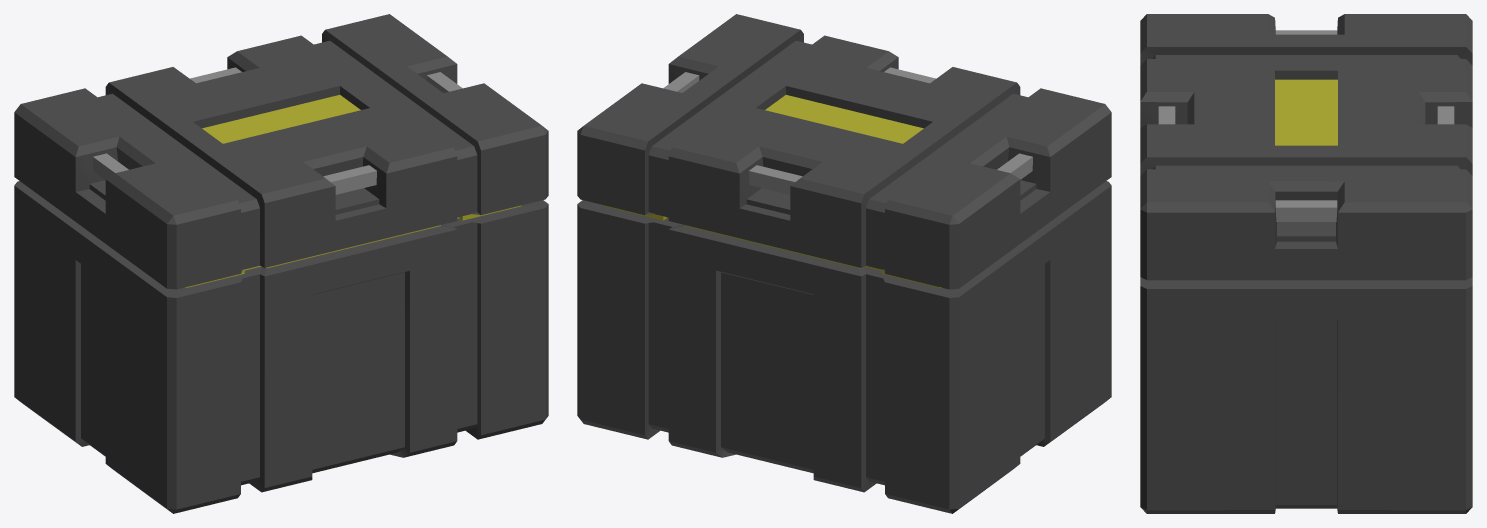
Rendered from crate.fbx.
3 renders of one model, left to right at view 1: azimuth 30°, elevation 25°; view 2: azimuth 150°, elevation 25°; view 3: azimuth 270°, elevation 25°, orthographic. The views are drawn at different scales.
Parts seen in each view (by area): view 1: pCube1; view 2: pCube1; view 3: pCube1.
Part boxes in pixels (x1,y1,x2,y2): pCube1: (14, 14, 548, 513); pCube1: (577, 14, 1111, 513); pCube1: (1140, 14, 1472, 513).
Bounding box in the file's own units: 14.5 × 10.82 × 10.47.
